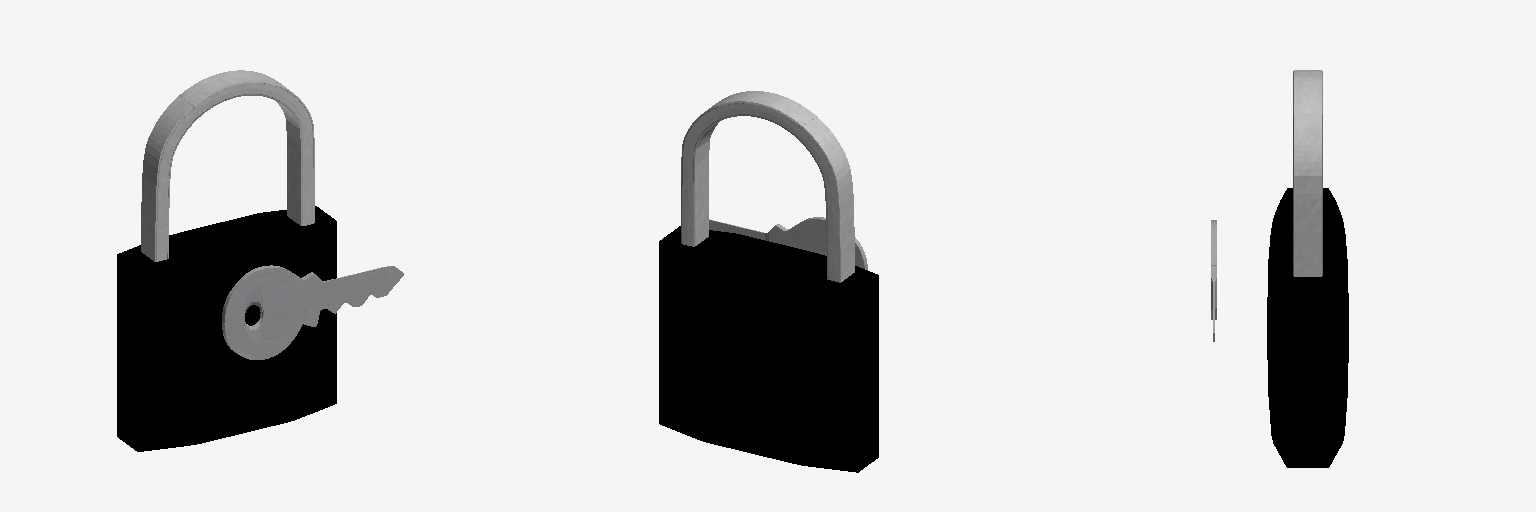
3 renders of one model, left to right at view 1: azimuth 30°, elevation 25°; view 2: azimuth 150°, elevation 25°; view 3: azimuth 270°, elevation 25°, orthographic.
Visible parts, largest first — view 1: pCube1, pCube5, pCube6; view 2: pCube1, pCube5, pCube6; view 3: pCube1, pCube5, pCube6.
Part boxes in pixels (x1,y1,x2,y2): pCube1: (117,206,336,451); pCube5: (141,70,314,261); pCube6: (222,265,403,359); pCube1: (659,226,878,472); pCube5: (681,91,854,282); pCube6: (709,217,867,269); pCube1: (1267,188,1348,467); pCube5: (1293,70,1322,276); pCube6: (1211,220,1216,341).
Size of the model in its own units: 1.04 by 1.48 by 0.542.
Materials: 3 (2 with a texture image).